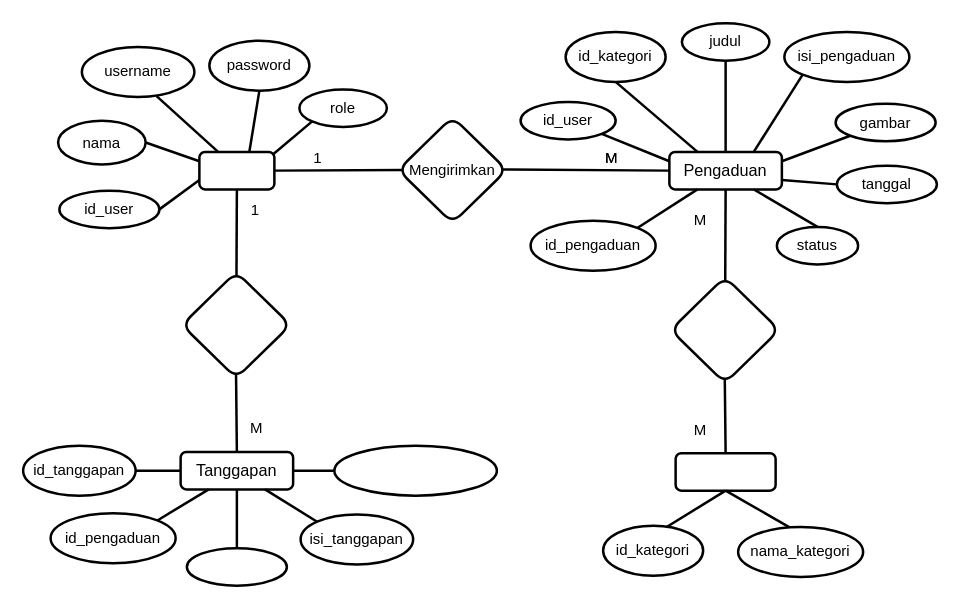
Image size: 959x608. Some labels were removed from this diagram. The centre of each missing label's shape, as x and y in pixels:
"id_admin" goes at point (236, 566).
"Input" goes at point (724, 329).
"Kategori" goes at point (725, 471).
"Merespon" goes at point (235, 324).
"tanggal_tanggapan" goes at point (415, 470).
"Users" goes at point (236, 170).
